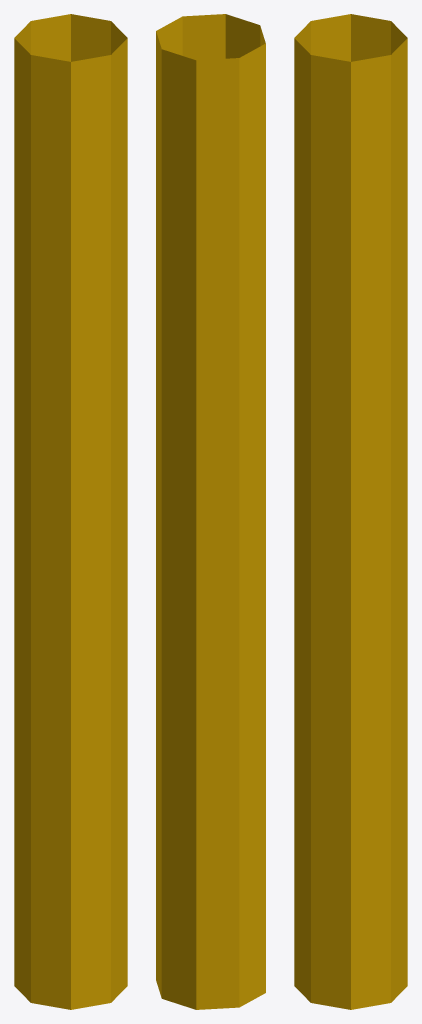
Rendered from OBJET_Module_07.fbx.
The picture shows the model from 3 angles, left to right: view 1: azimuth 90°, elevation 25°; view 2: azimuth 210°, elevation 25°; view 3: azimuth 270°, elevation 25°; orthographic projection.
Visible parts, largest first — view 1: OBJET_Module_07; view 2: OBJET_Module_07; view 3: OBJET_Module_07.
Boxes of the visible parts, box(x1,y1,x2,y2) form: OBJET_Module_07: box(14, 14, 127, 1009); OBJET_Module_07: box(156, 14, 265, 1009); OBJET_Module_07: box(294, 14, 407, 1009).
Bounding box in the file's own units: 61.67 × 569 × 61.67.
